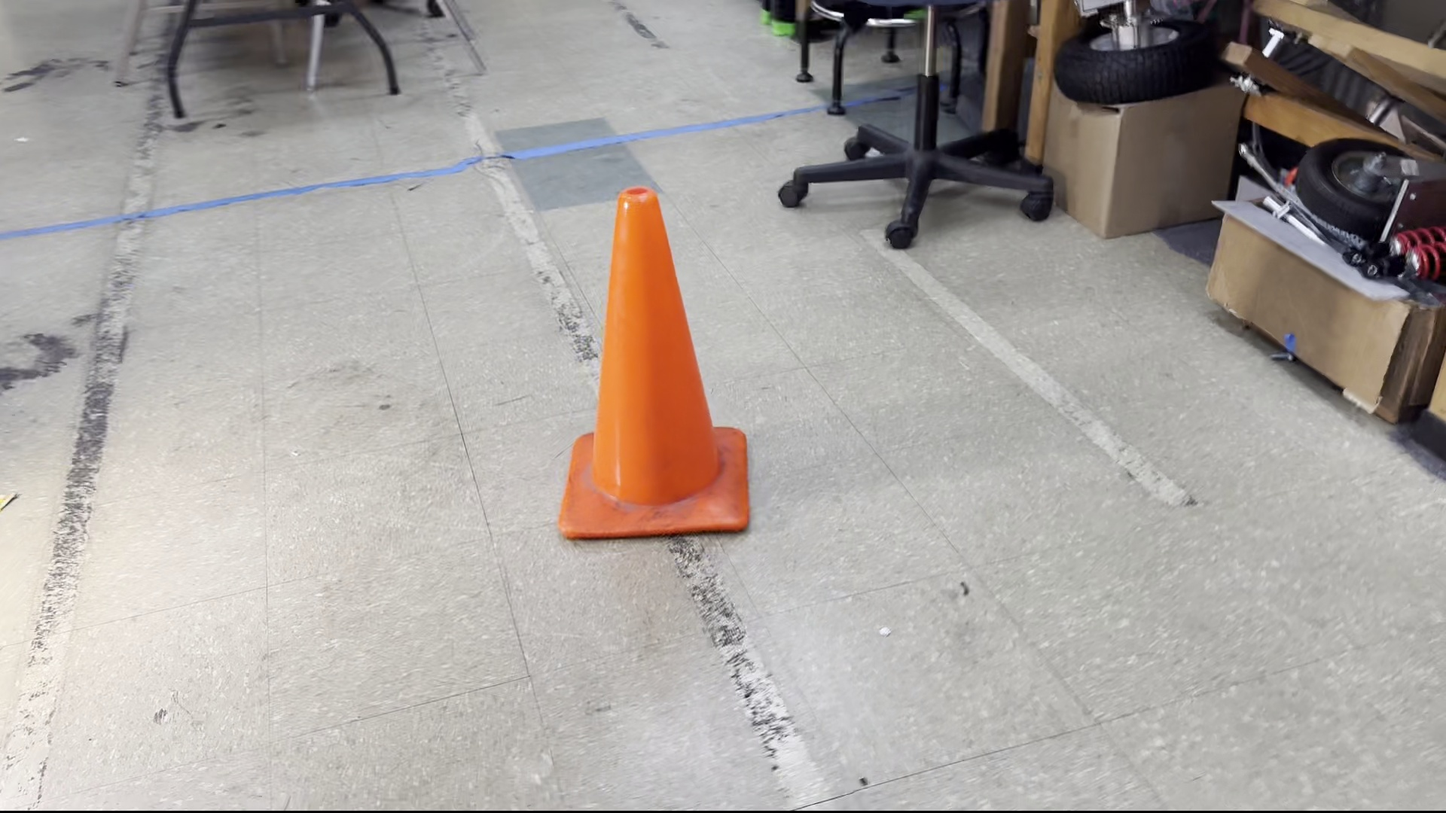traffic_cone: (557, 185, 750, 541)
